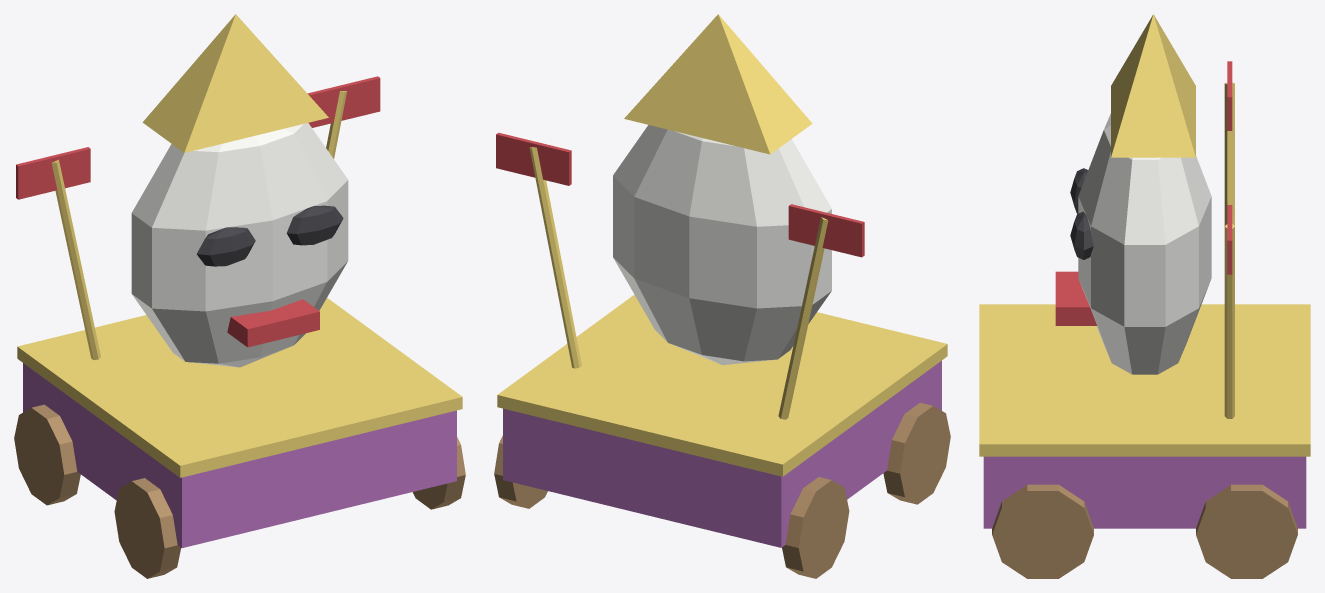
File: VN_Carroza.fbx
3 renders of one model, left to right at view 1: azimuth 30°, elevation 25°; view 2: azimuth 150°, elevation 25°; view 3: azimuth 270°, elevation 25°, orthographic.
Parts seen in each view (by area): view 1: VN_Carroza; view 2: VN_Carroza; view 3: VN_Carroza.
Boxes of the visible parts, x1=… form: VN_Carroza: x1=14, y1=14, x2=465, y2=578; VN_Carroza: x1=494, y1=14, x2=950, y2=578; VN_Carroza: x1=979, y1=14, x2=1310, y2=578.
Size of the model in its own units: 2.5 by 3.19 by 1.95.
